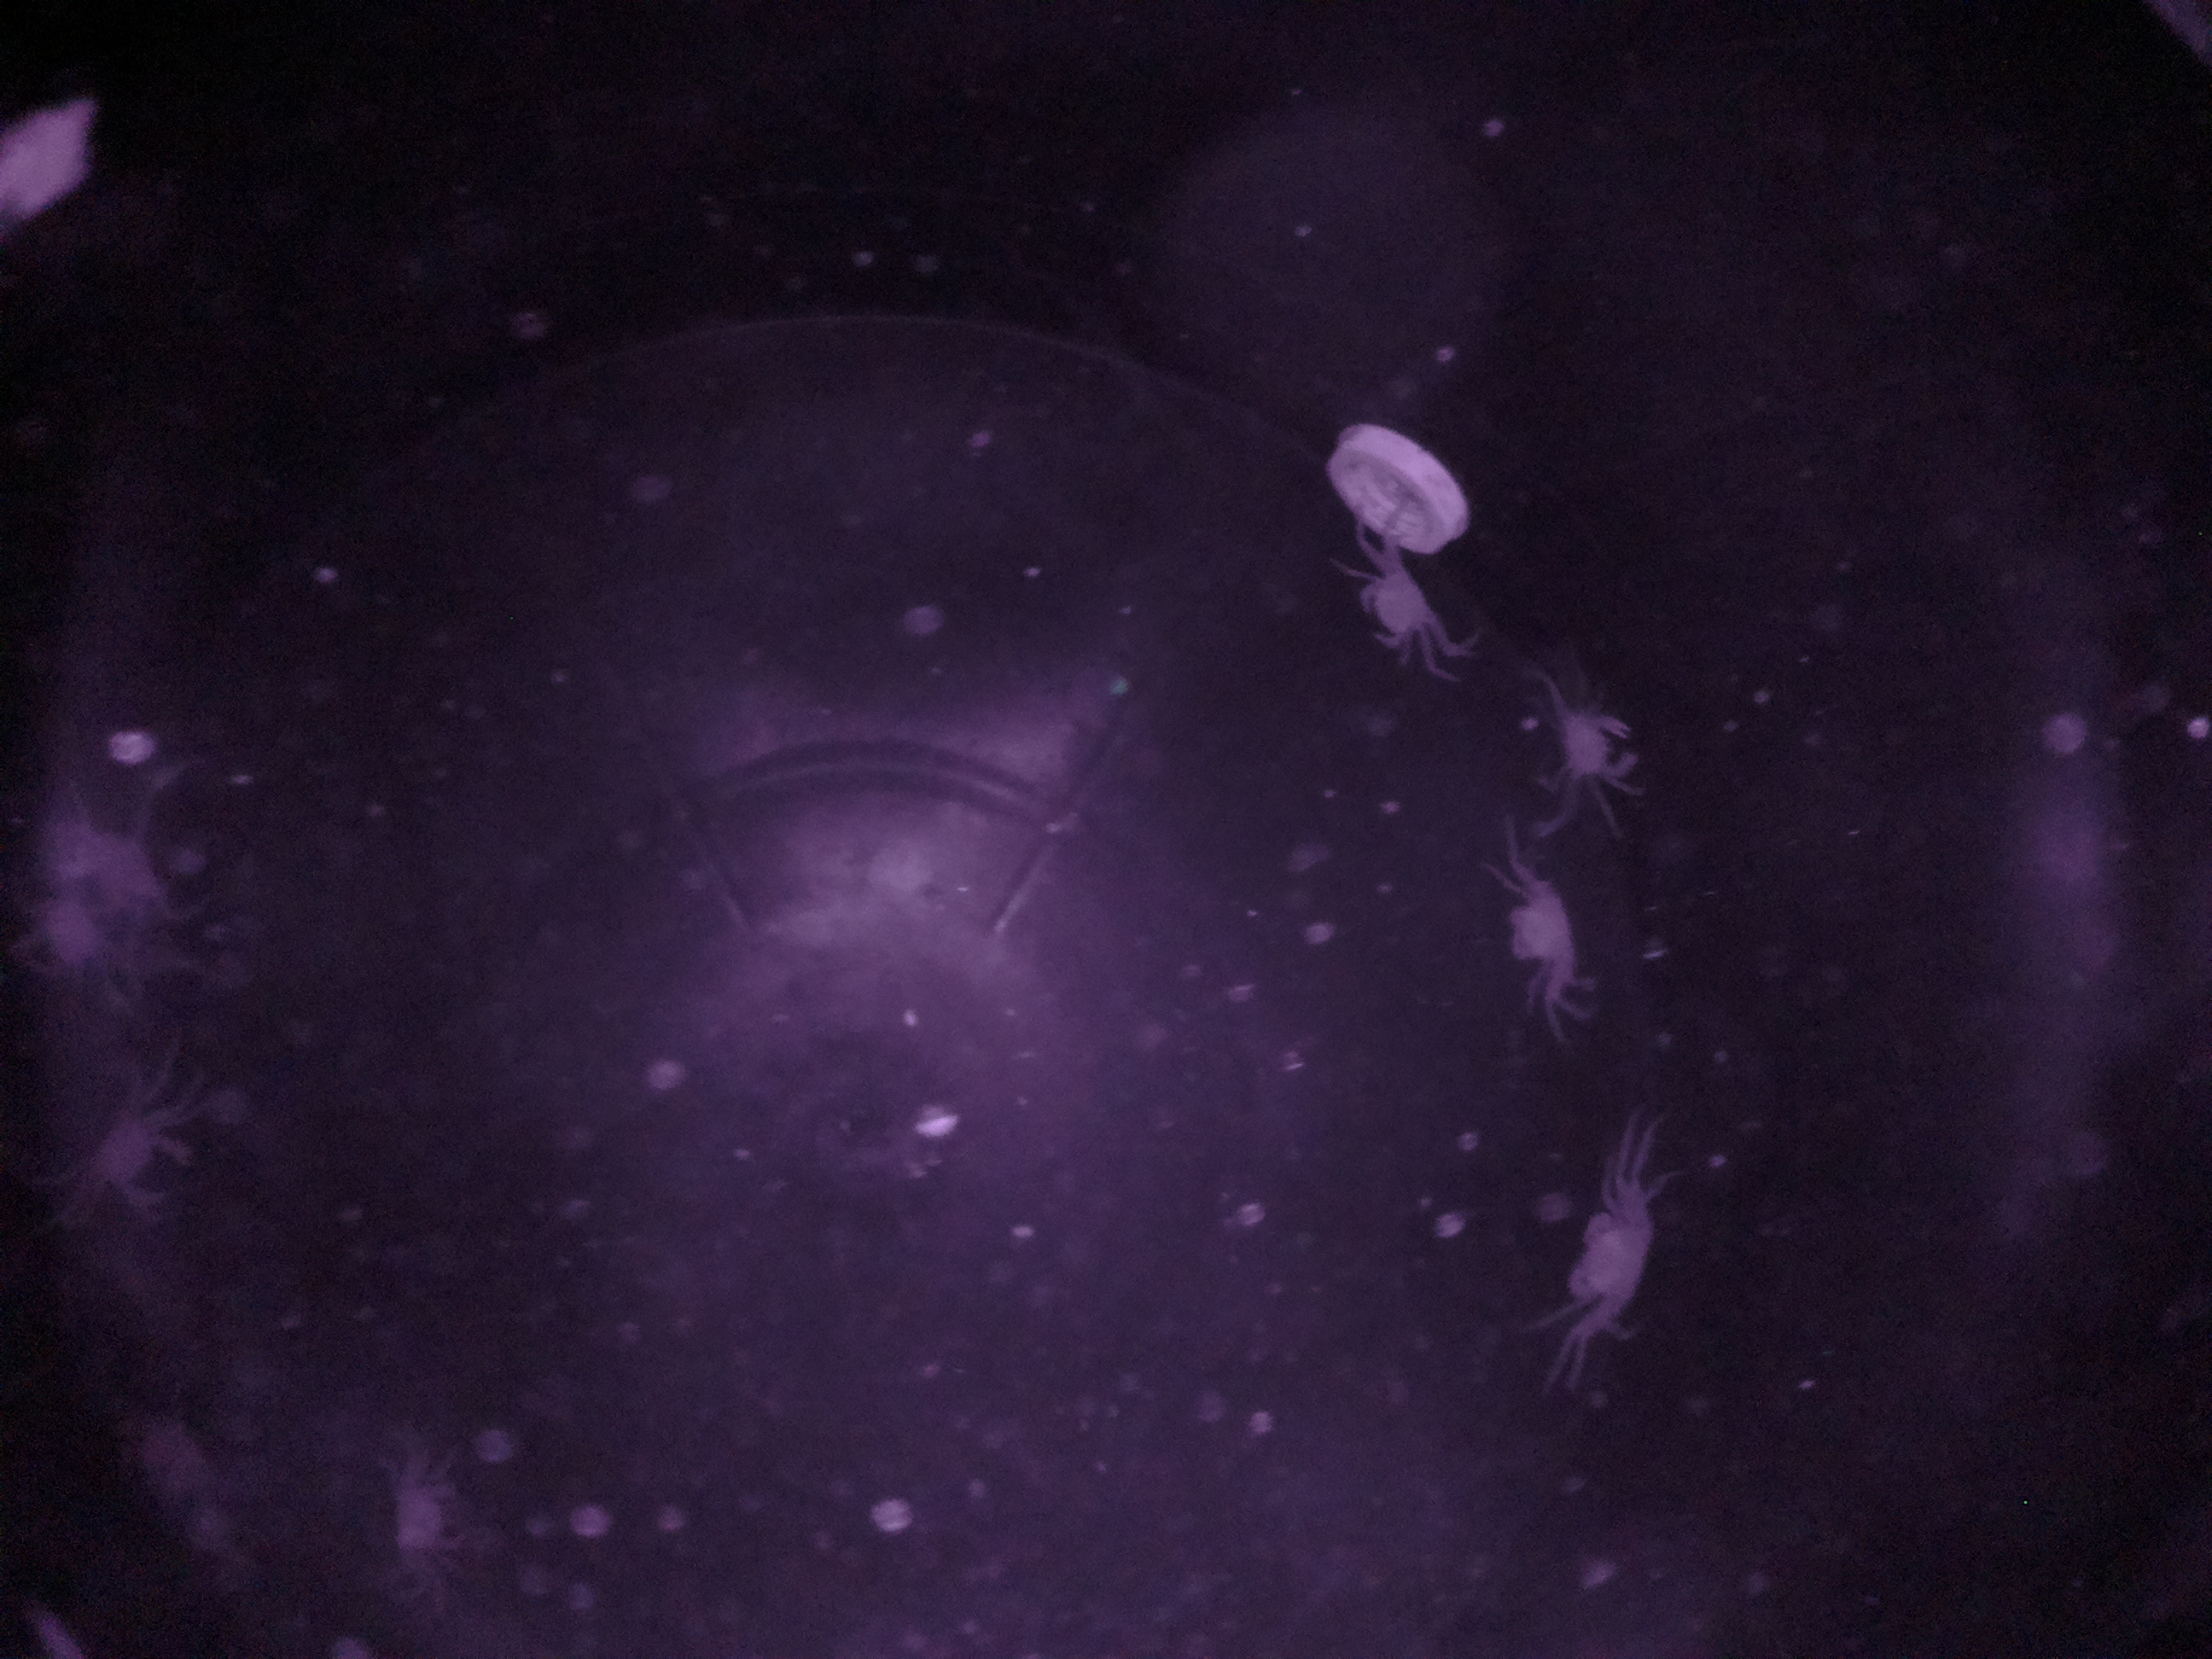Crab: (1536, 1173, 1676, 1342), (1486, 857, 1606, 1000), (1531, 676, 1667, 802), (1352, 538, 1454, 683)
